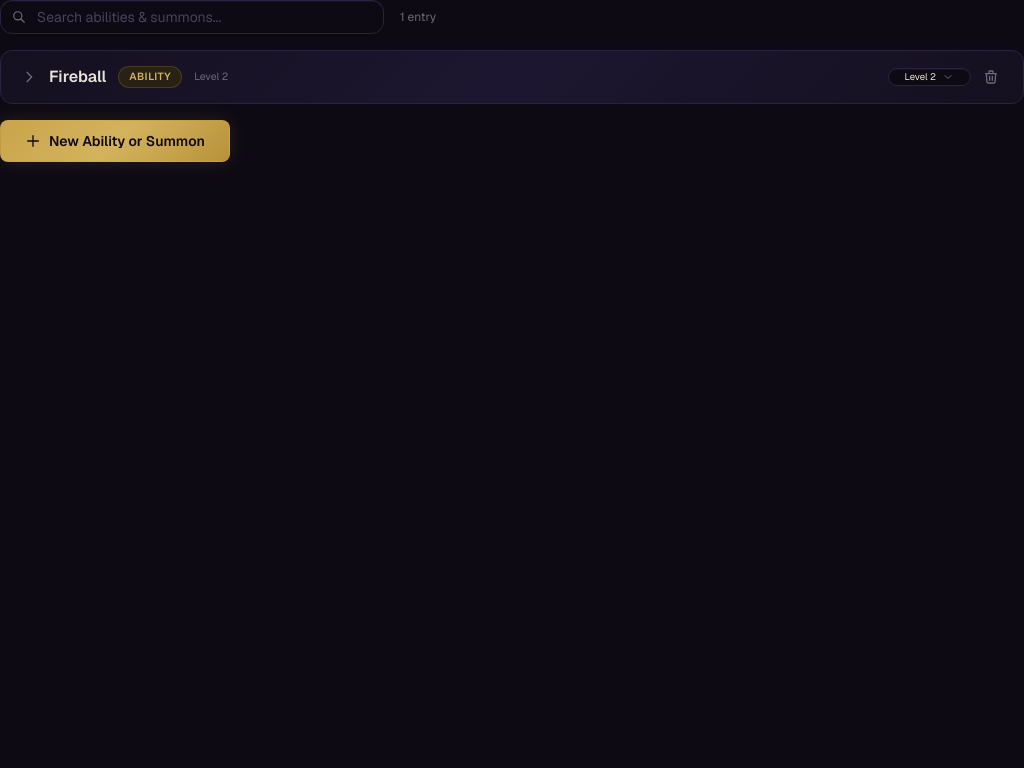
Test: AbilitiesTab › closes delete confirmation on Cancel click
The image size is (1024, 768).
Click the button titled "Delete ability" at (991, 77), box [979,65,1003,89]
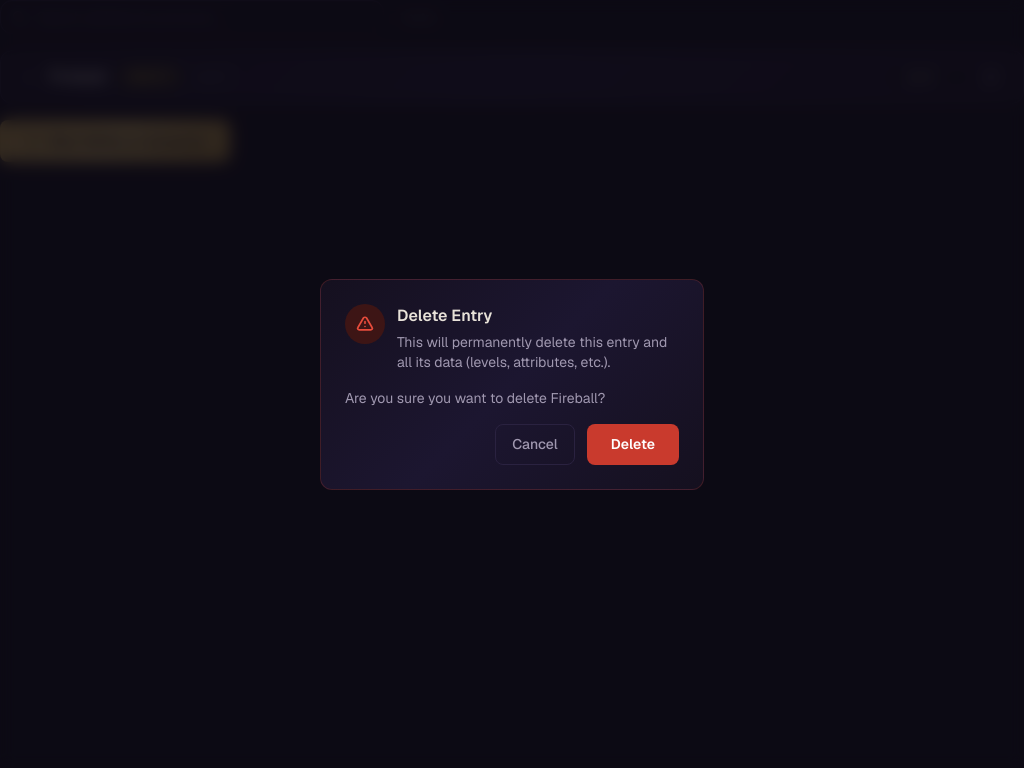
Click the button "Cancel" at (535, 444), box [495,424,575,464]
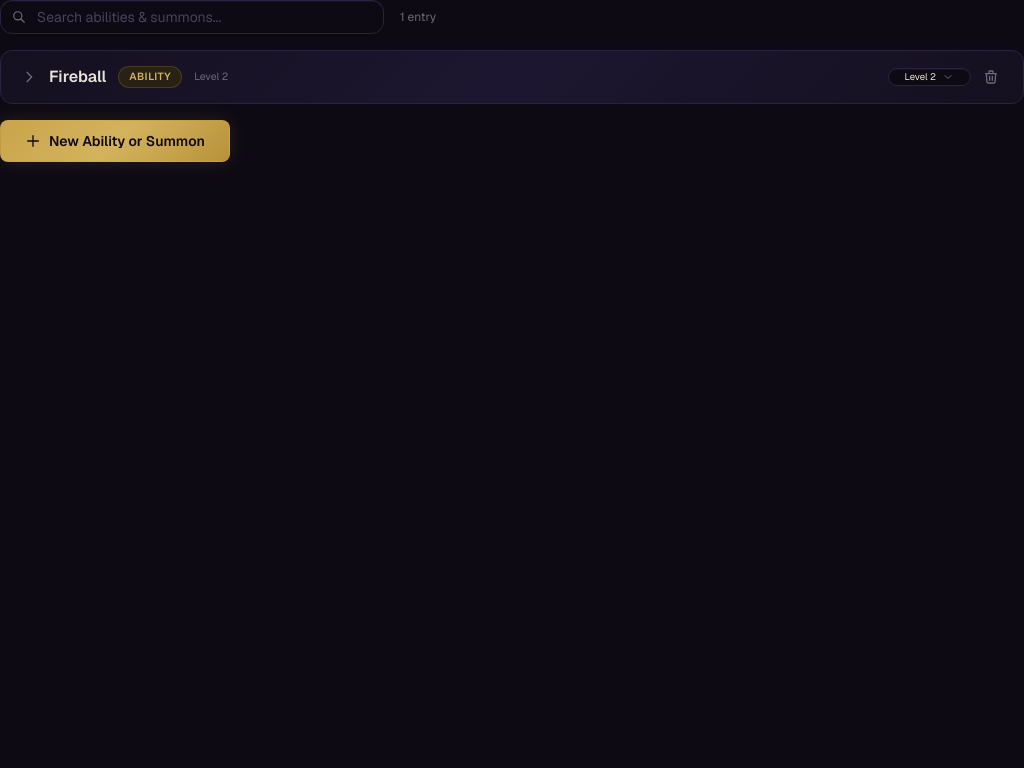
Now the heading "Delete Entry" is gone
